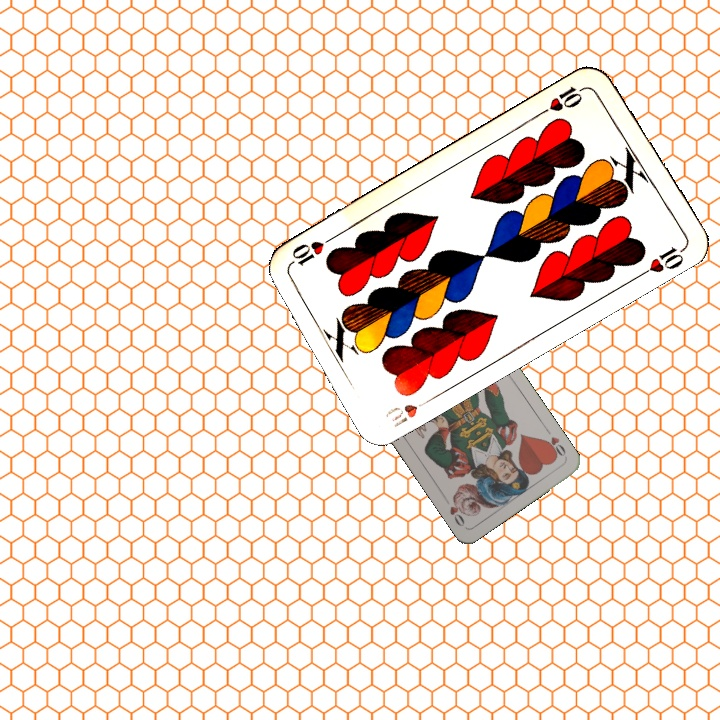H10: (381, 392, 437, 430), (545, 81, 591, 114)
HO: (540, 424, 569, 460)
